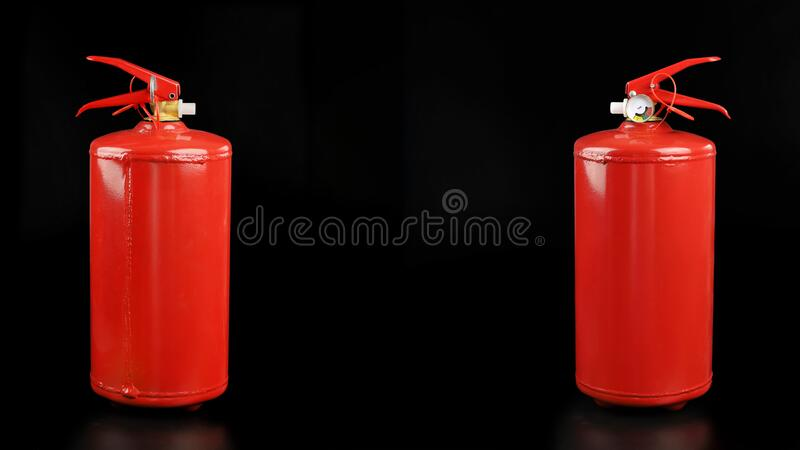fire_extinguisher: (74, 54, 233, 411), (573, 55, 732, 411)
